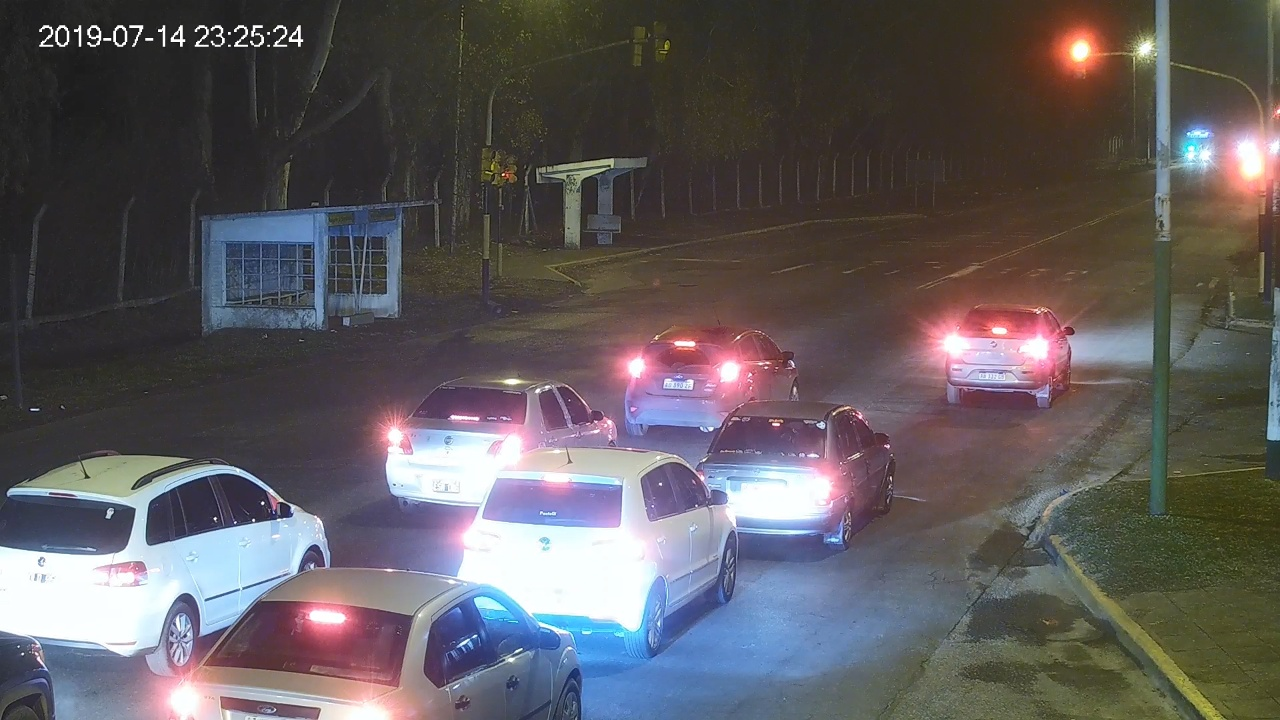car: (172, 568, 582, 720), (945, 304, 1076, 407)
traffic light: (1072, 40, 1087, 79)
